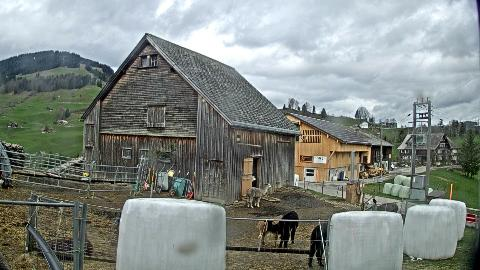car: (390, 162, 396, 172)
sheep: (264, 210, 302, 250), (36, 237, 93, 257), (307, 220, 329, 268), (259, 218, 281, 248), (247, 182, 271, 208), (1, 250, 11, 270), (252, 175, 255, 180)
